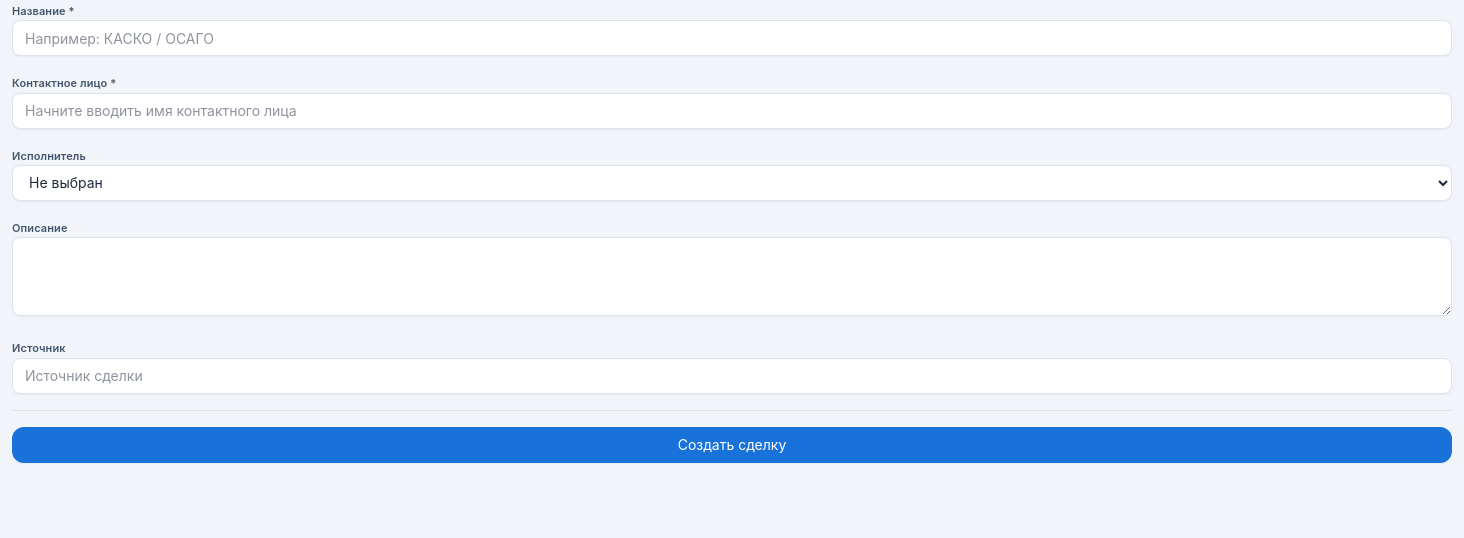
it: DealForm › показывает новый label и текст ошибки для контактного лица
Check: the text "Контактное лицо *" is shown, box [12,76,116,90]
Type "Сделка" into the field with placeholder "Например: КАСКО / ОСАГО" at point(732, 38), box [12,20,1452,56]
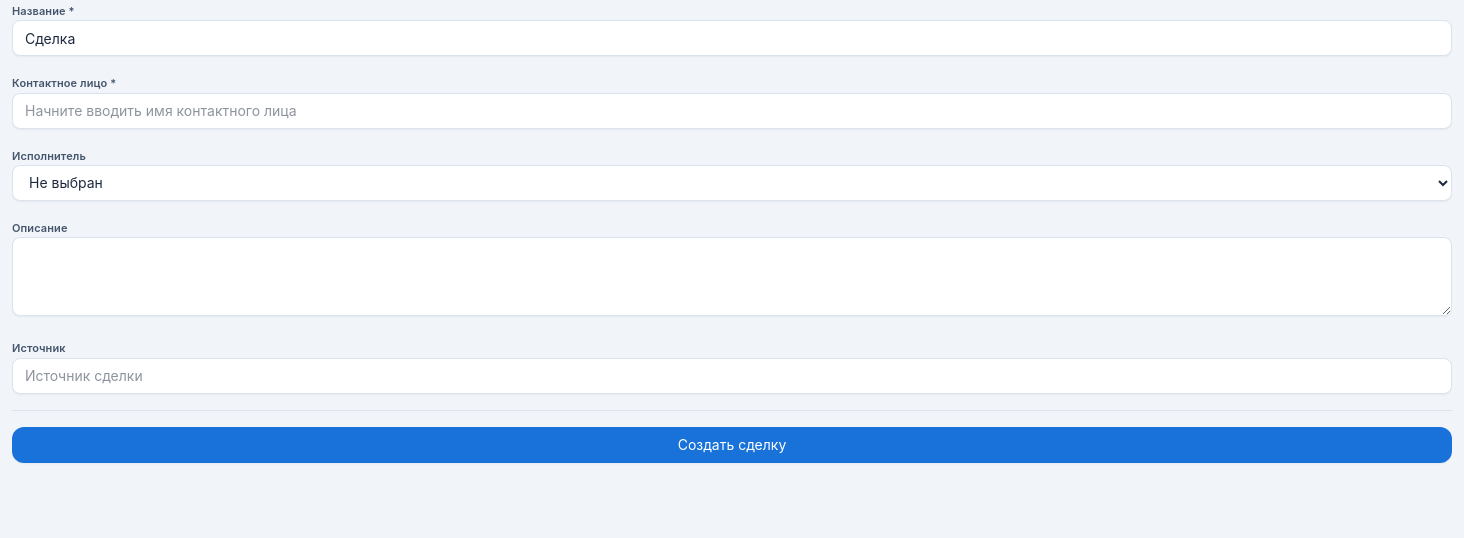
Submit the form from the button "Создать сделку", box [12,427,1452,463]
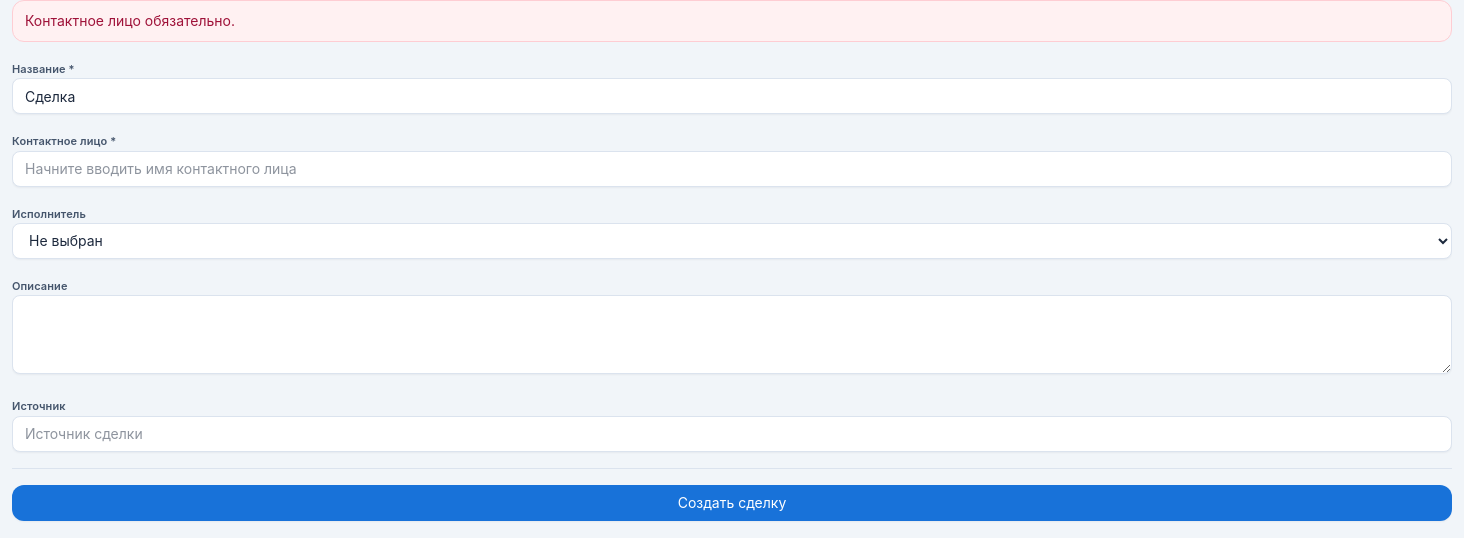
Check: the text "Контактное лицо обязательно." is shown, box [12,0,1452,42]
